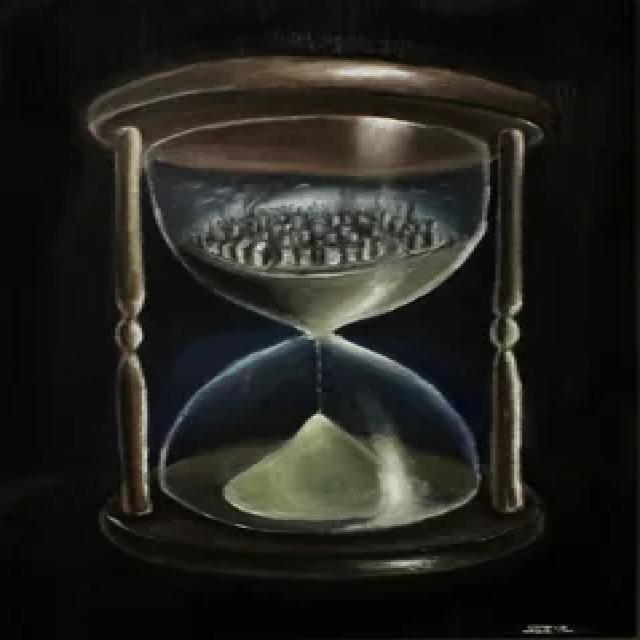clock: (85, 42, 559, 575)
